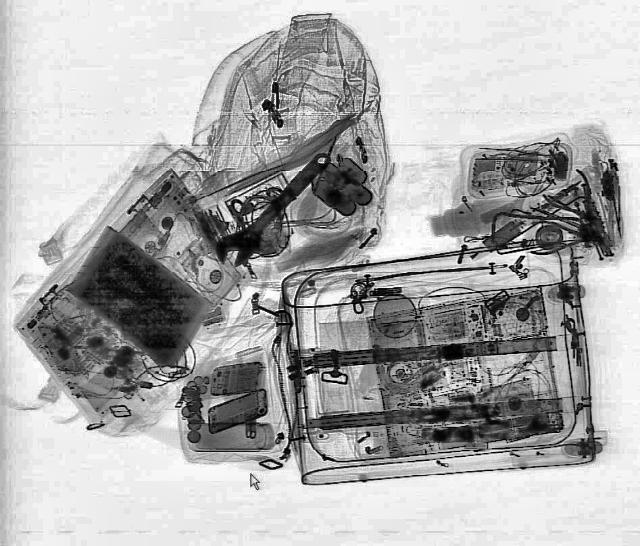Pliers: (536, 168, 618, 236)
Wrench: (204, 142, 336, 272)
